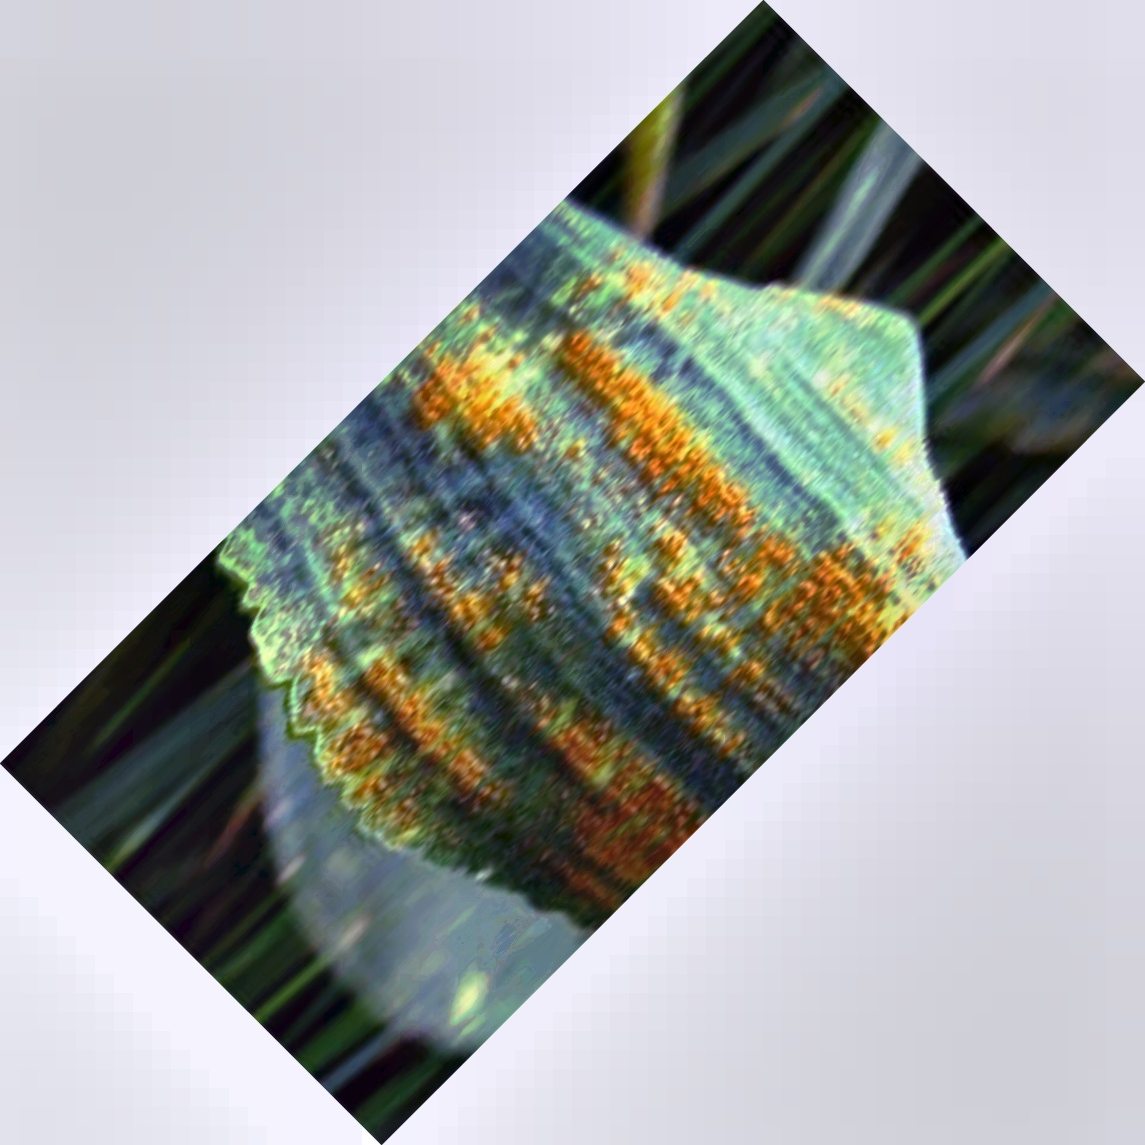Leaf Rust: (328, 334, 830, 787)
